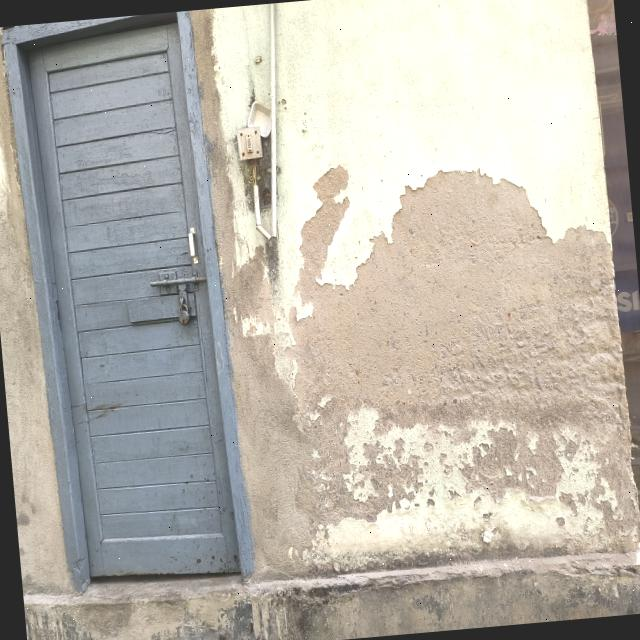Moss growth due to damping: (264, 237, 278, 285)
Scaling: (190, 8, 640, 576), (0, 27, 74, 593)
pollution -moisture induced blackening: (239, 134, 272, 234)
